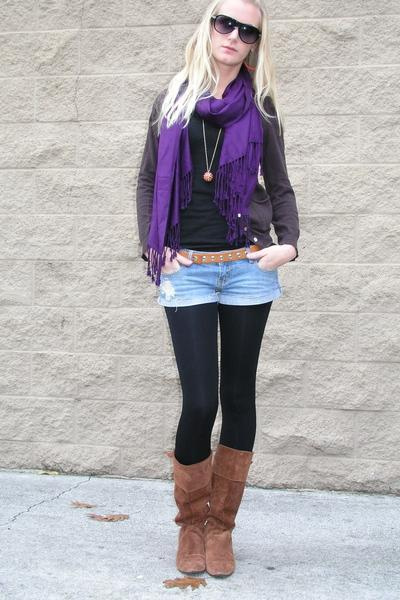shirt: (136, 94, 299, 285)
shoe: (164, 444, 252, 579)
shorts: (157, 256, 281, 306)
sunglass: (210, 14, 261, 47)
